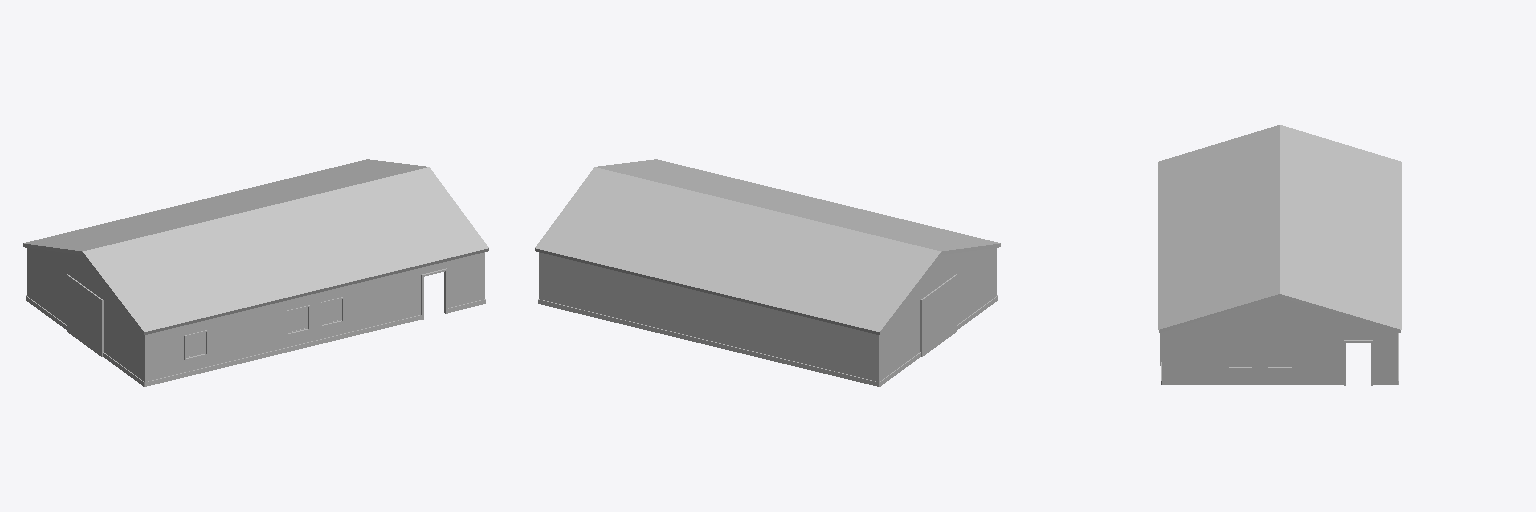
File: Warehouse.obj
3 views of the same model, side by side, from view 1: azimuth 30°, elevation 25°; view 2: azimuth 150°, elevation 25°; view 3: azimuth 270°, elevation 25° (orthographic).
Visible parts, largest first — view 1: Warehouse_01.obj; view 2: Warehouse_01.obj; view 3: Warehouse_01.obj.
Part boxes in pixels (bbox=[...]): Warehouse_01.obj: bbox=[23, 159, 488, 386]; Warehouse_01.obj: bbox=[535, 159, 1000, 386]; Warehouse_01.obj: bbox=[1158, 125, 1401, 385].
Bounding box in the file's own units: 20.38 × 5.25 × 12.38.